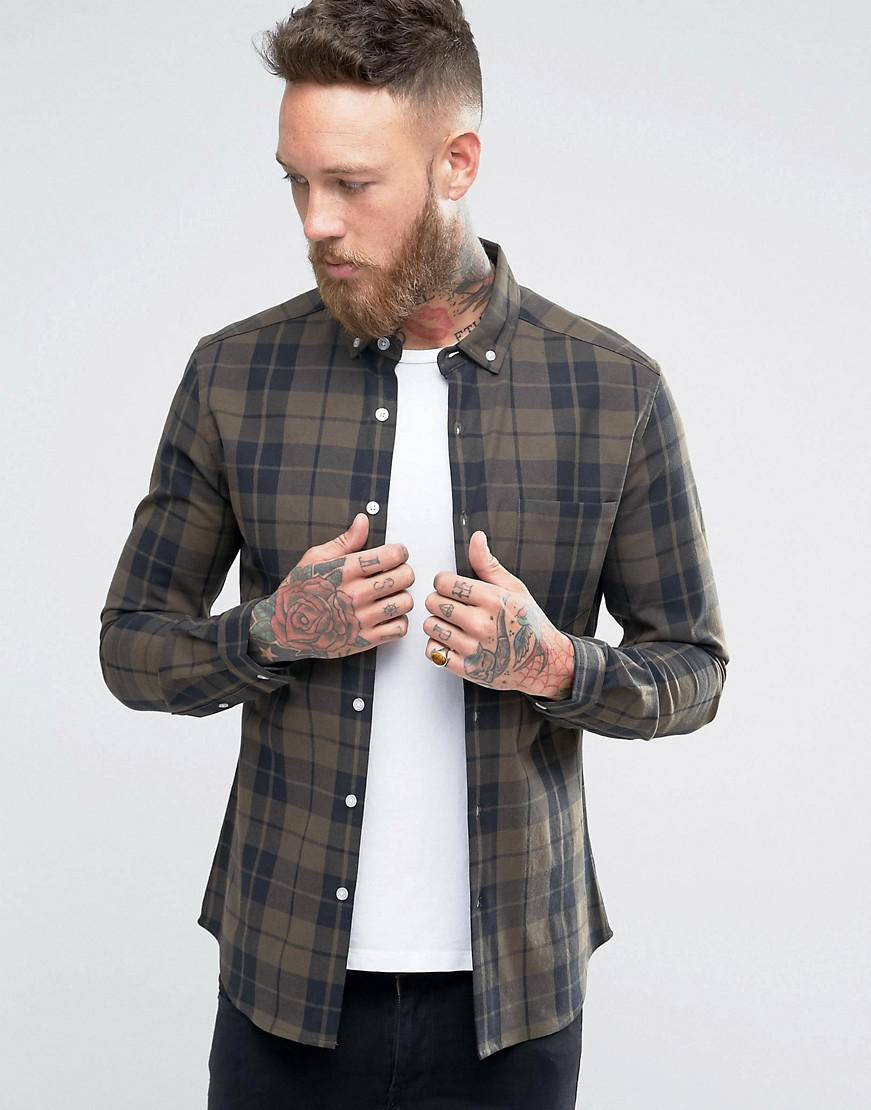teeshirt: (118, 257, 729, 1071)
